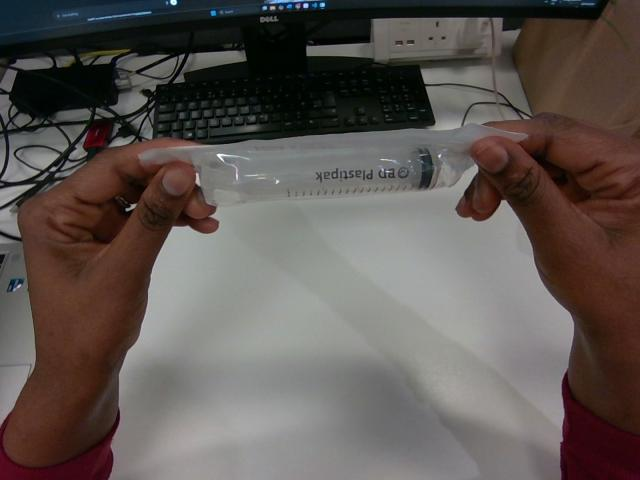syringe: (140, 124, 526, 205)
